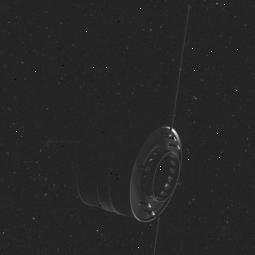double_start: (68, 95, 197, 229)
